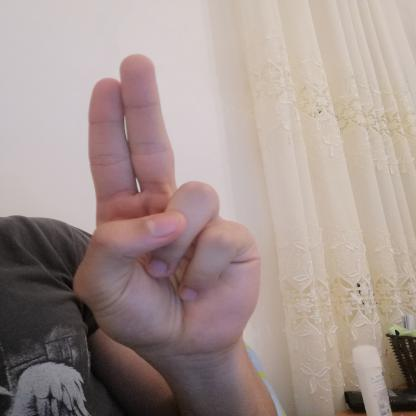TA: (50, 40, 274, 368)
